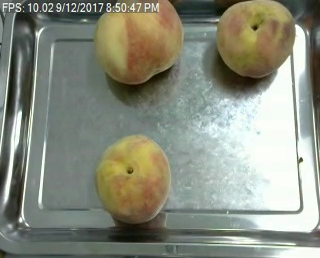Peach: (92, 0, 183, 85), (95, 134, 171, 223), (215, 0, 296, 77)
